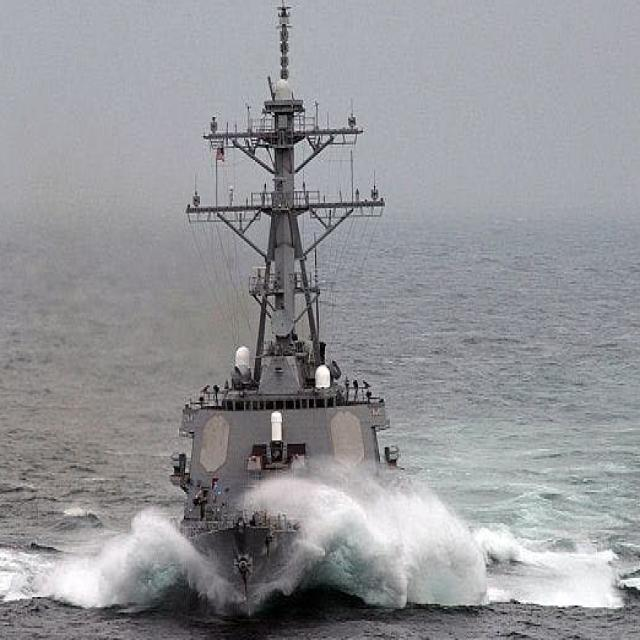navalvessels: (132, 0, 430, 580)
